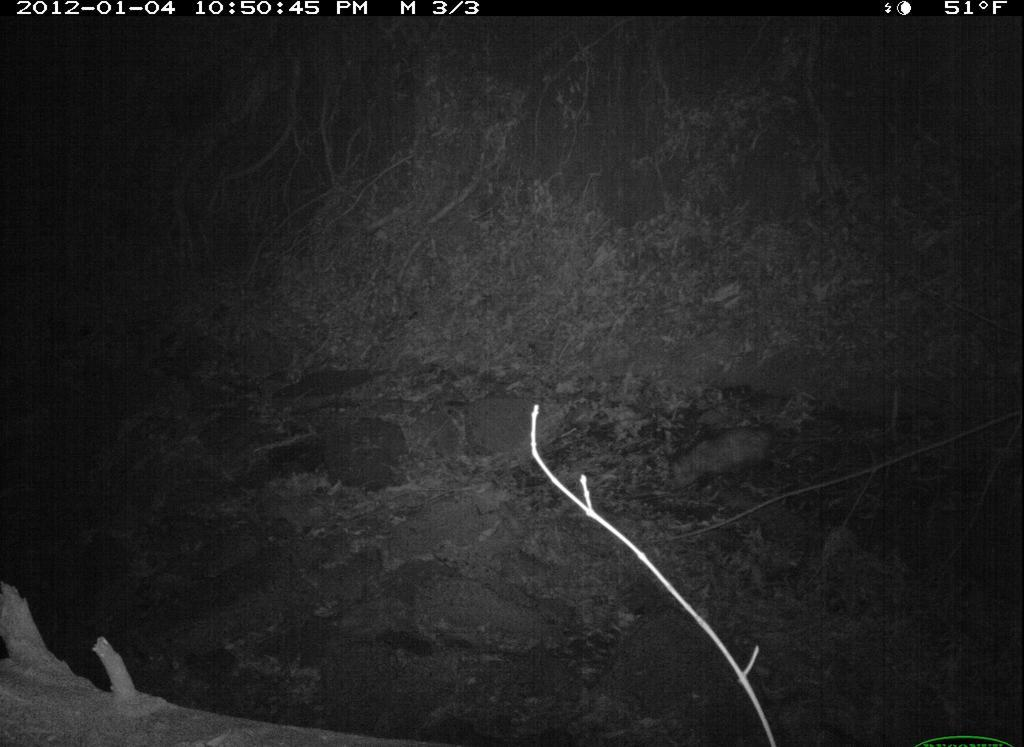opossum: (665, 419, 835, 504)
